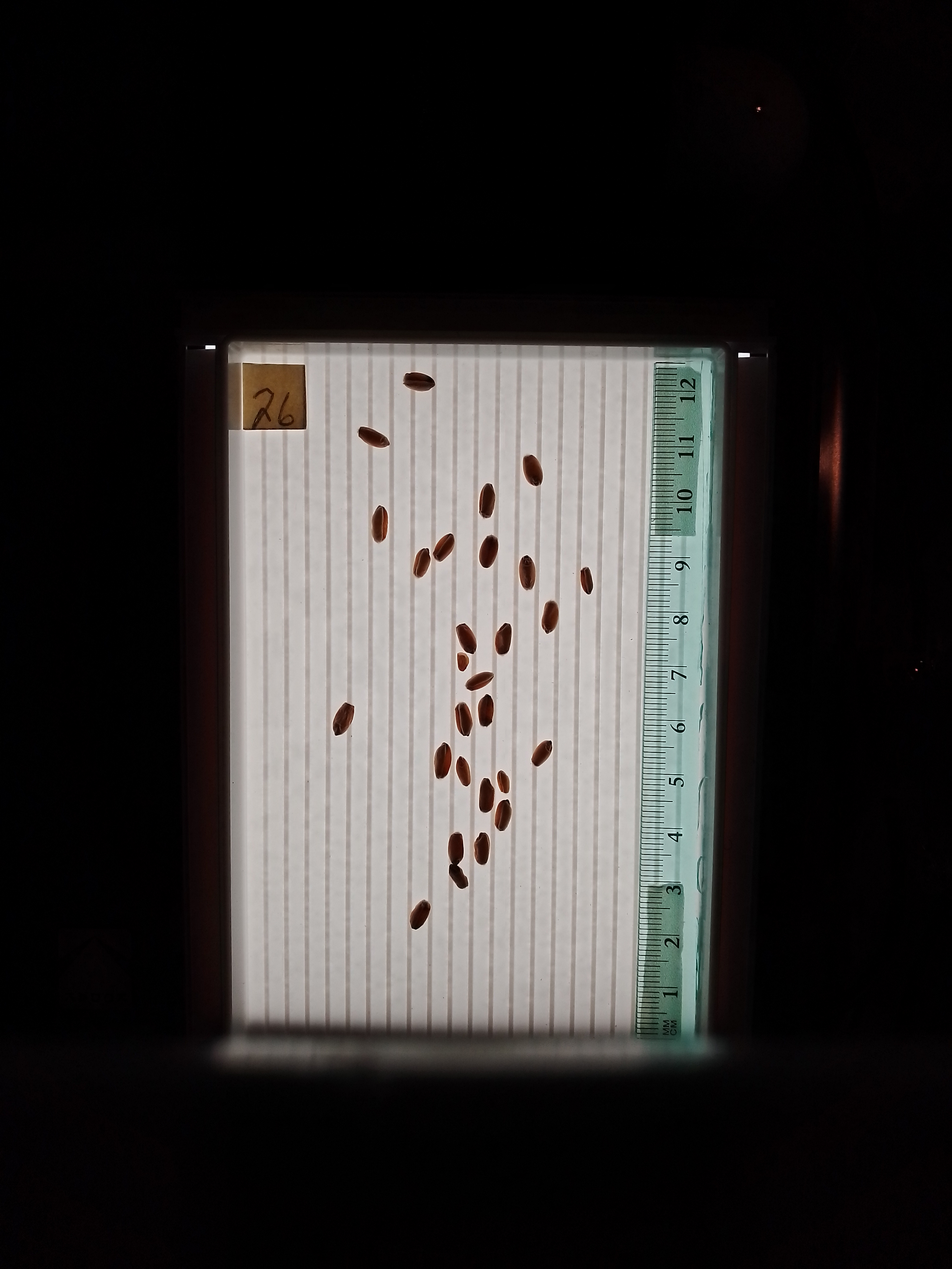seed mask: (333, 703, 354, 735), (358, 426, 388, 448), (434, 744, 452, 779), (403, 372, 434, 392), (523, 455, 543, 486), (371, 506, 388, 542), (479, 536, 498, 568), (455, 704, 473, 736), (457, 624, 476, 654), (410, 901, 430, 929), (433, 535, 454, 561), (542, 601, 559, 633), (413, 548, 431, 578), (479, 484, 495, 517), (519, 556, 535, 589), (495, 624, 512, 654), (494, 801, 511, 831), (532, 741, 552, 766), (474, 834, 490, 865), (448, 833, 464, 864), (479, 779, 494, 812), (479, 696, 494, 726), (456, 757, 471, 787), (449, 865, 467, 889), (467, 673, 492, 690), (580, 567, 594, 594), (497, 772, 510, 793)
